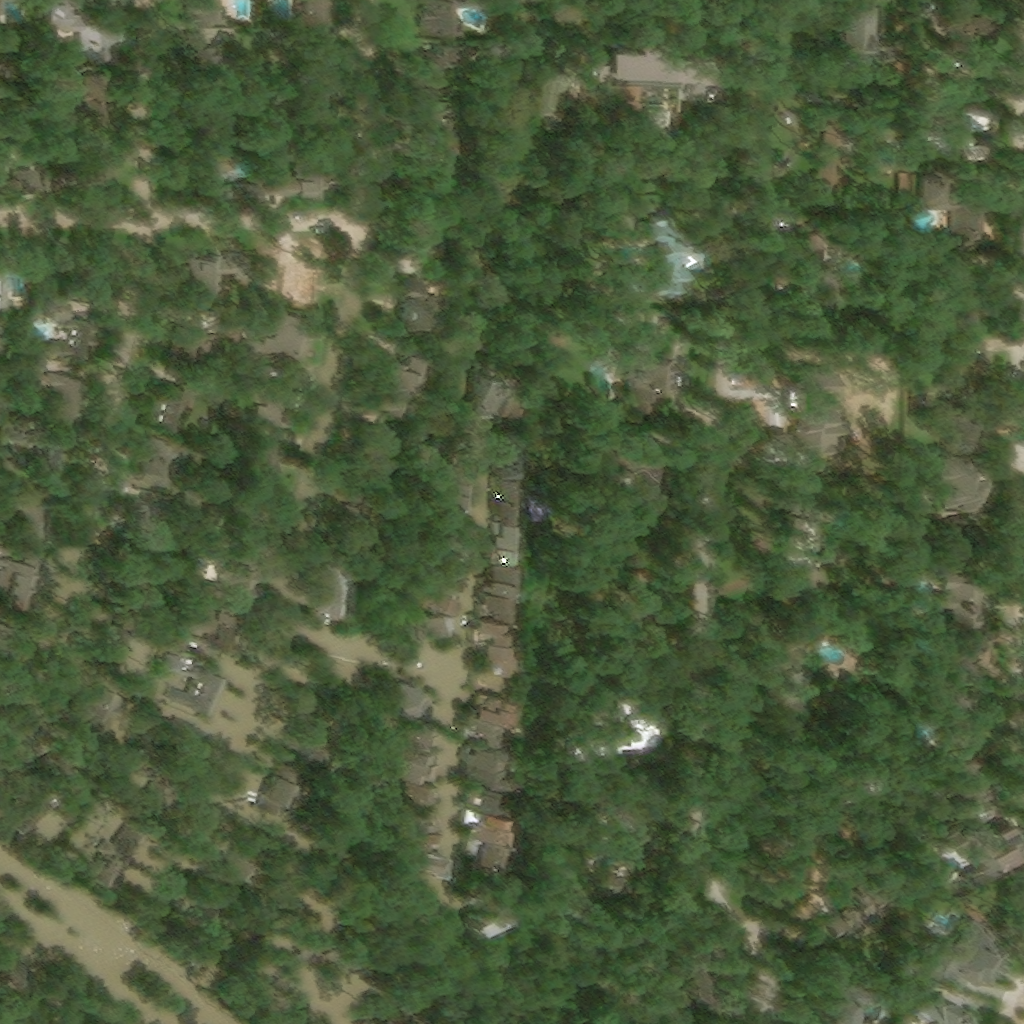destroyed: (257, 974, 306, 1019), (263, 912, 309, 941), (280, 939, 316, 968)
major_damage: (931, 814, 1018, 871), (125, 722, 203, 776), (65, 685, 127, 750), (162, 652, 224, 717), (167, 898, 231, 958), (467, 358, 526, 417), (7, 784, 83, 828), (856, 865, 898, 928), (104, 620, 168, 659), (192, 605, 241, 653), (437, 525, 474, 587), (206, 555, 253, 600), (312, 549, 345, 611), (395, 736, 440, 781), (458, 804, 509, 843), (464, 739, 509, 781), (0, 557, 39, 603), (114, 561, 151, 609), (440, 426, 474, 475), (394, 709, 438, 744), (392, 771, 438, 804), (456, 888, 498, 922), (813, 903, 847, 945), (391, 838, 436, 868), (484, 635, 515, 675), (393, 817, 438, 844), (494, 427, 521, 472), (760, 828, 785, 876), (478, 557, 517, 587), (230, 836, 264, 870), (393, 797, 434, 824), (407, 602, 439, 636), (473, 614, 507, 646), (387, 672, 417, 707), (419, 580, 452, 609), (466, 696, 511, 716), (446, 474, 469, 511), (459, 787, 496, 806), (170, 628, 197, 652), (261, 769, 284, 797), (478, 587, 509, 607), (254, 793, 279, 813), (492, 541, 518, 558), (492, 519, 512, 541), (463, 713, 494, 727), (496, 471, 513, 492), (495, 493, 509, 518), (463, 727, 487, 738), (839, 856, 852, 868)
minor_damage: (599, 39, 722, 101), (912, 912, 1004, 983), (567, 695, 657, 759), (609, 214, 680, 291), (14, 355, 77, 425), (7, 412, 65, 476), (168, 320, 242, 370), (238, 309, 306, 361), (622, 328, 669, 393), (266, 151, 326, 201), (368, 337, 412, 405), (814, 985, 891, 1023), (410, 32, 453, 94), (595, 793, 648, 842), (6, 482, 44, 549), (617, 446, 661, 502), (405, 102, 454, 149), (190, 250, 236, 300), (153, 377, 196, 429), (139, 435, 181, 487), (781, 502, 822, 555), (51, 313, 95, 362), (390, 271, 432, 321), (958, 760, 996, 815), (292, 248, 326, 304), (401, 199, 433, 257), (532, 815, 579, 854), (912, 993, 969, 1023), (71, 135, 103, 183), (250, 435, 280, 484), (417, 0, 463, 31), (192, 152, 220, 199), (0, 157, 35, 194), (259, 390, 290, 426), (0, 258, 15, 310), (222, 179, 256, 198), (760, 628, 780, 654), (36, 291, 53, 313), (599, 311, 620, 327), (0, 123, 11, 135)
no_damage: (775, 360, 851, 453), (933, 569, 984, 650), (916, 170, 989, 222), (46, 0, 101, 49), (813, 114, 856, 176), (938, 6, 988, 55), (836, 0, 883, 51), (934, 455, 975, 513), (936, 66, 983, 114), (941, 398, 982, 453), (44, 64, 103, 102), (189, 0, 225, 28), (299, 0, 332, 26), (955, 651, 980, 677), (929, 124, 946, 139), (901, 173, 910, 191)
unclassified: (648, 140, 713, 184), (941, 341, 983, 399), (831, 762, 883, 801), (227, 495, 266, 546), (942, 280, 980, 331), (840, 674, 883, 717), (294, 45, 332, 83), (353, 419, 388, 457), (314, 930, 348, 967), (942, 709, 972, 750), (767, 661, 795, 702), (598, 150, 628, 173)
